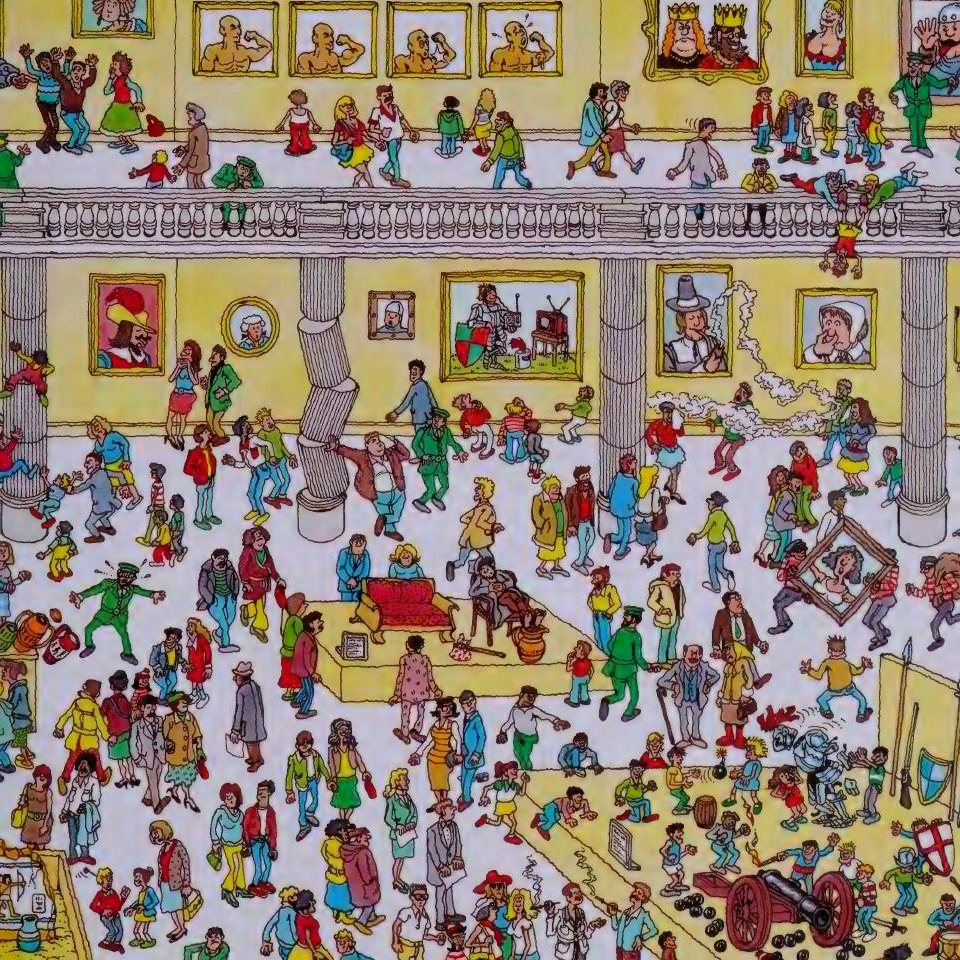waldo: (750, 951, 790, 960)
